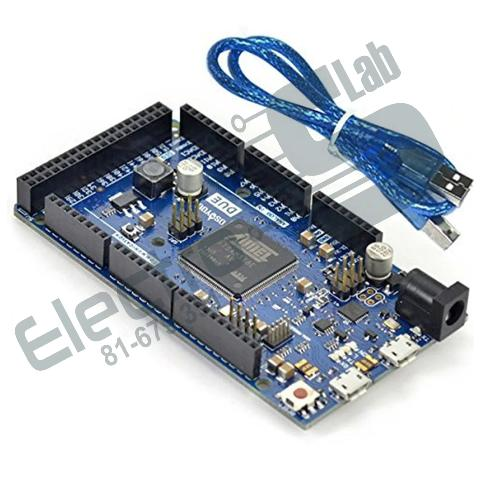Arduino-Due: (10, 96, 472, 436)
